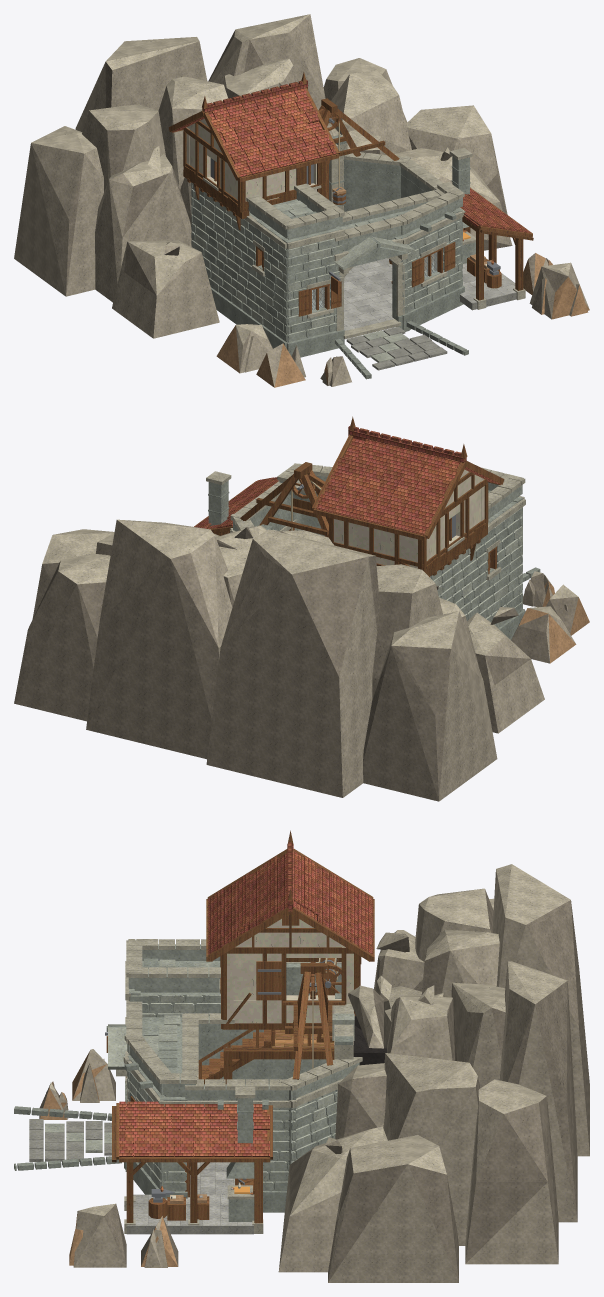
File: quarry.glb
3 views of the same model, one above another, from view 1: azimuth 30°, elevation 25°; view 2: azimuth 150°, elevation 25°; view 3: azimuth 270°, elevation 25° (orthographic). The views are drawn at different scales.
Visible parts, largest first — view 1: Quarry_RockMain, Quarry_ShellMain, Quarry_RoofMain, Quarry_OreRockMain, Quarry_UpperShellMain, Quarry_FloorMainTiles, Quarry_FloorApproachMain, Quarry_FurnishingMain, Quarry_FloorLeanToMainTiles, Quarry_StepMain; view 2: Quarry_RockMain, Quarry_RoofMain, Quarry_ShellMain, Quarry_UpperShellMain, Quarry_OreRockMain; view 3: Quarry_RockMain, Quarry_RoofMain, Quarry_ShellMain, Quarry_UpperShellMain, Quarry_OreRockMain, Quarry_FurnishingMain, Quarry_FloorApproachMain, Quarry_FloorLeanToMainTiles, Quarry_FloorLeanToMain, Quarry_FloorMainTiles, Quarry_ServiceShaft_Mouth, Quarry_StairTreads (+1 smaller).
Part boxes in pixels (left/top/right/bottom): Quarry_RockMain: left=14, top=14, right=512, bottom=338; Quarry_ShellMain: left=191, top=135, right=533, bottom=357; Quarry_RoofMain: left=168, top=72, right=532, bottom=274; Quarry_OreRockMain: left=216, top=253, right=589, bottom=387; Quarry_UpperShellMain: left=183, top=127, right=325, bottom=230; Quarry_FloorMainTiles: left=312, top=258, right=426, bottom=330; Quarry_FloorApproachMain: left=346, top=326, right=447, bottom=370; Quarry_FurnishingMain: left=331, top=121, right=501, bottom=379; Quarry_FloorLeanToMainTiles: left=432, top=262, right=516, bottom=303; Quarry_StepMain: left=343, top=319, right=401, bottom=339; Quarry_RockMain: left=14, top=519, right=544, bottom=801; Quarry_RoofMain: left=194, top=416, right=525, bottom=540; Quarry_ShellMain: left=206, top=471, right=525, bottom=639; Quarry_UpperShellMain: left=329, top=479, right=488, bottom=577; Quarry_OreRockMain: left=511, top=571, right=589, bottom=663; Quarry_RockMain: left=278, top=864, right=589, bottom=1282; Quarry_RoofMain: left=106, top=830, right=374, bottom=1162; Quarry_ShellMain: left=105, top=961, right=354, bottom=1233; Quarry_UpperShellMain: left=219, top=947, right=361, bottom=1029; Quarry_OreRockMain: left=39, top=1049, right=178, bottom=1267; Quarry_FurnishingMain: left=14, top=990, right=313, bottom=1221; Quarry_FloorApproachMain: left=29, top=1119, right=111, bottom=1161; Quarry_FloorLeanToMainTiles: left=127, top=1194, right=253, bottom=1225; Quarry_FloorLeanToMain: left=126, top=1225, right=253, bottom=1234; Quarry_FloorMainTiles: left=190, top=1162, right=234, bottom=1194; Quarry_ServiceShaft_Mouth: left=353, top=1016, right=386, bottom=1065; Quarry_StairTreads: left=198, top=1029, right=271, bottom=1079.
Bounding box in the file's own units: 18 × 9.37 × 18.47.
34 materials, 27 textured.
